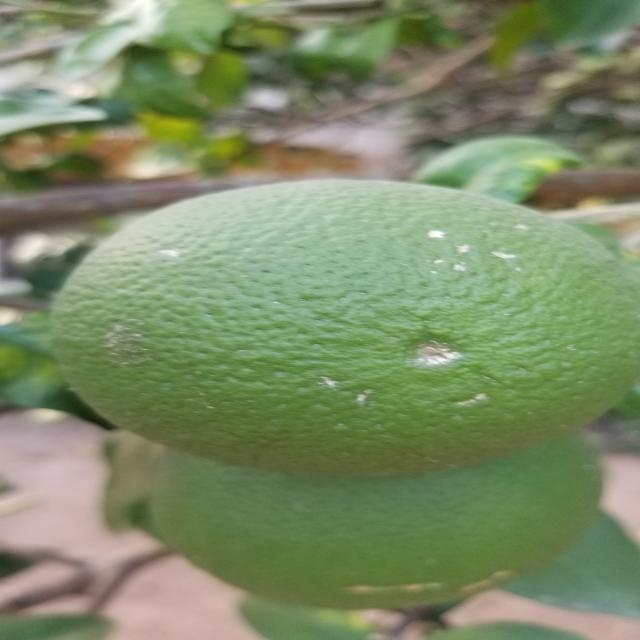agrume: (52, 181, 640, 475), (140, 433, 597, 611)
